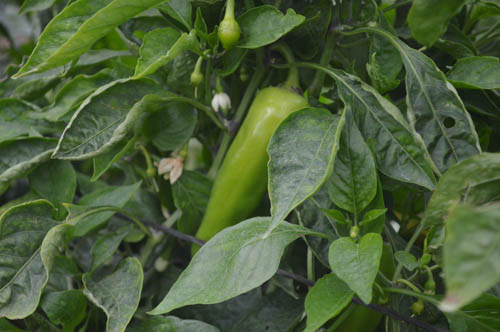ChiliPepper: (186, 87, 311, 266)
